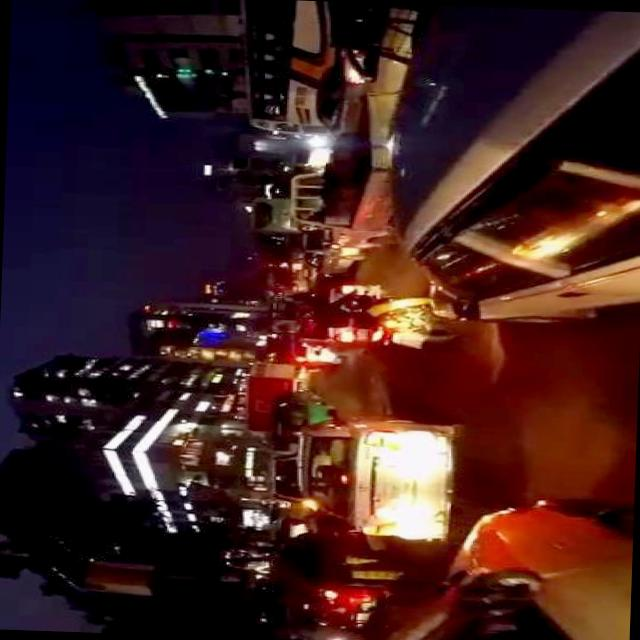bus: (234, 0, 347, 140), (245, 197, 290, 236)
car: (380, 3, 640, 328), (291, 410, 455, 543), (268, 510, 386, 630), (296, 281, 384, 356), (308, 64, 359, 140), (298, 228, 361, 278)
motorcycle: (270, 400, 335, 446)
truck: (385, 491, 632, 640), (286, 88, 401, 250), (238, 362, 306, 434)
